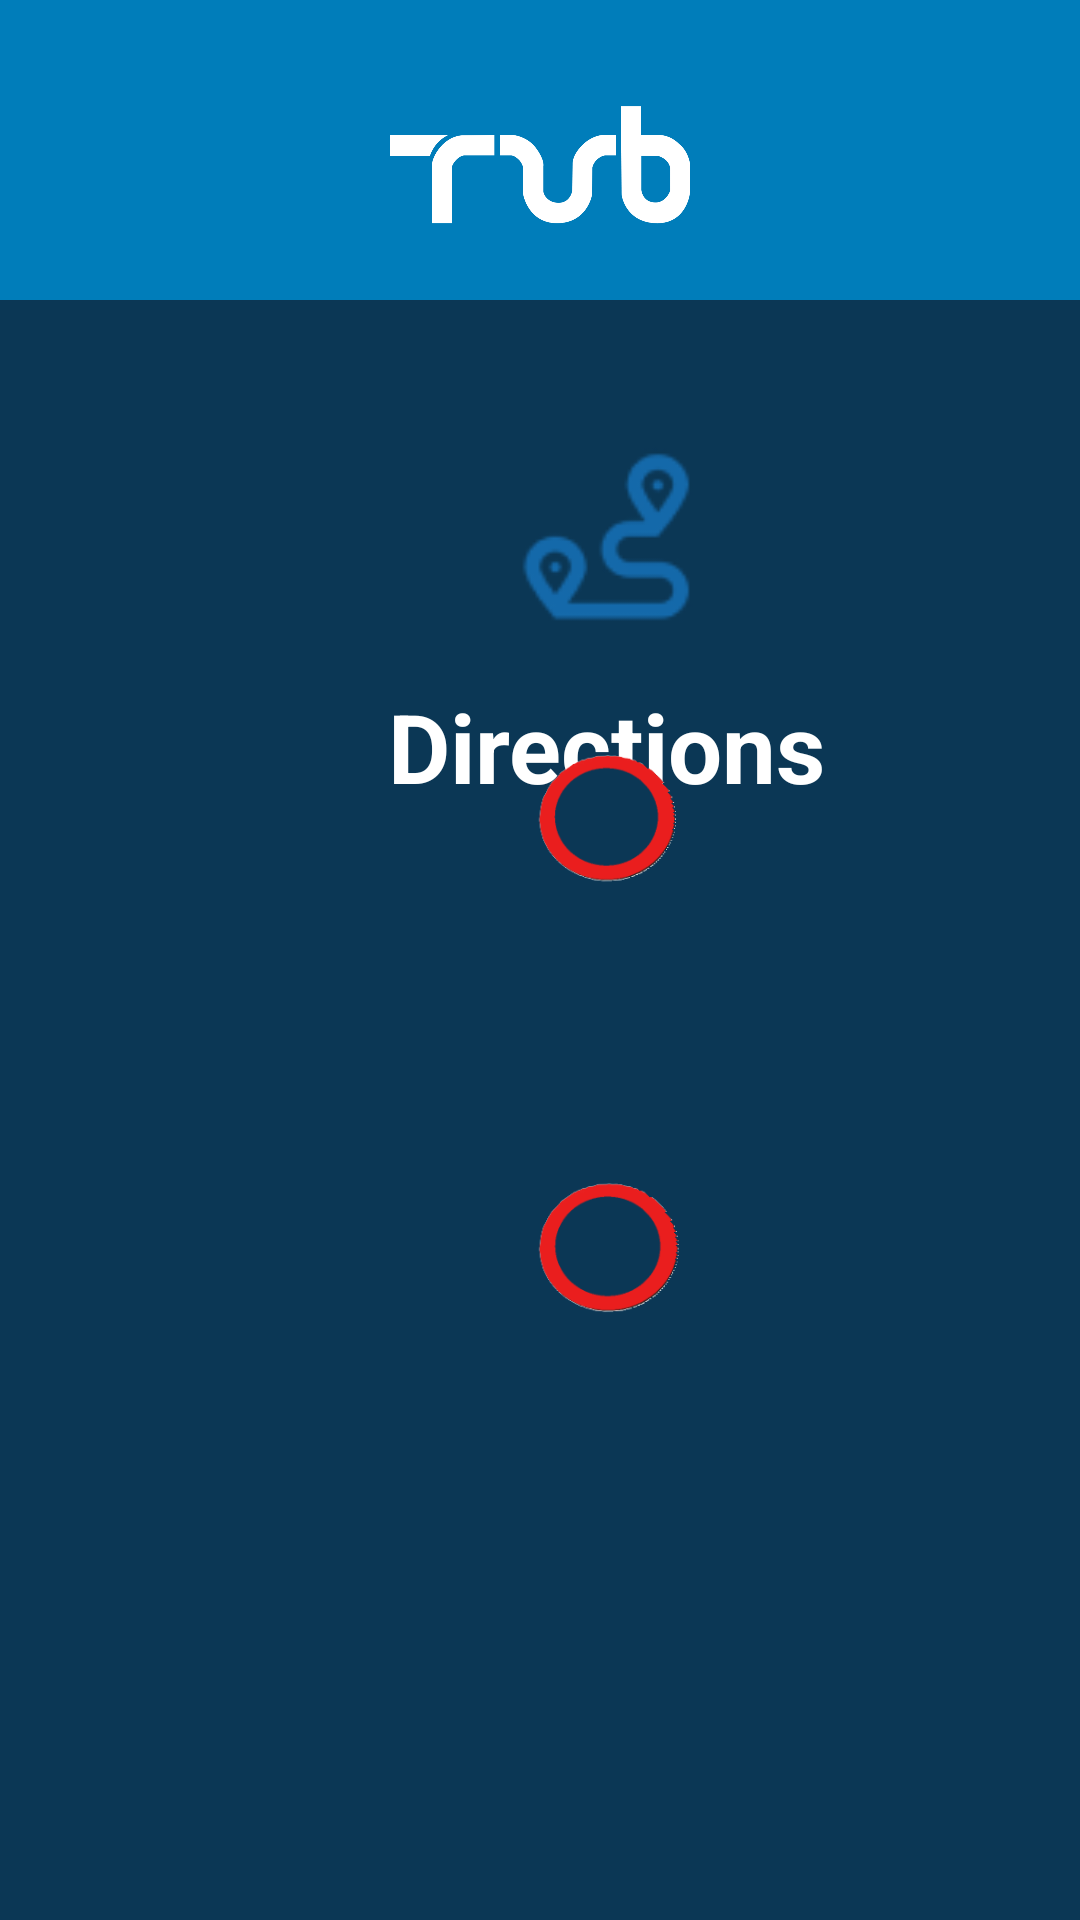

Point at icon controls on the screen. Image size 1080*1920, points as (x=x, y=y).
routes: (x=606, y=536)
